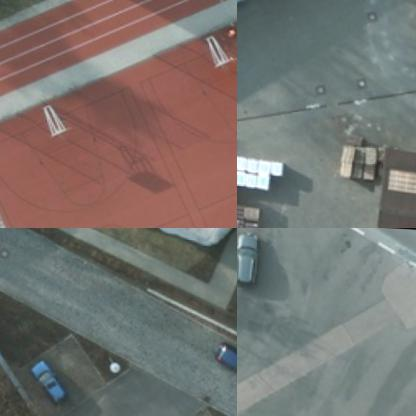car: (22, 358, 64, 406), (237, 231, 259, 287), (206, 344, 236, 383)
